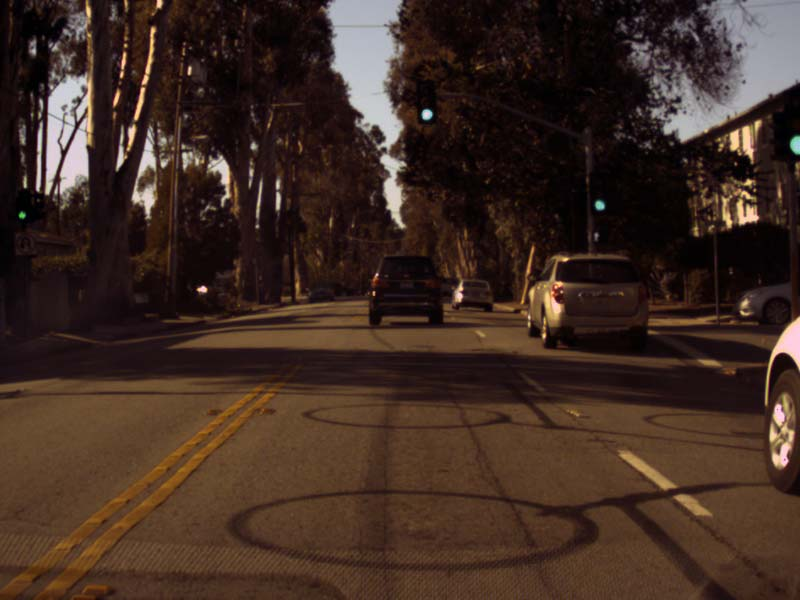Green: (417, 80, 436, 122), (589, 171, 608, 213), (16, 192, 29, 220)
